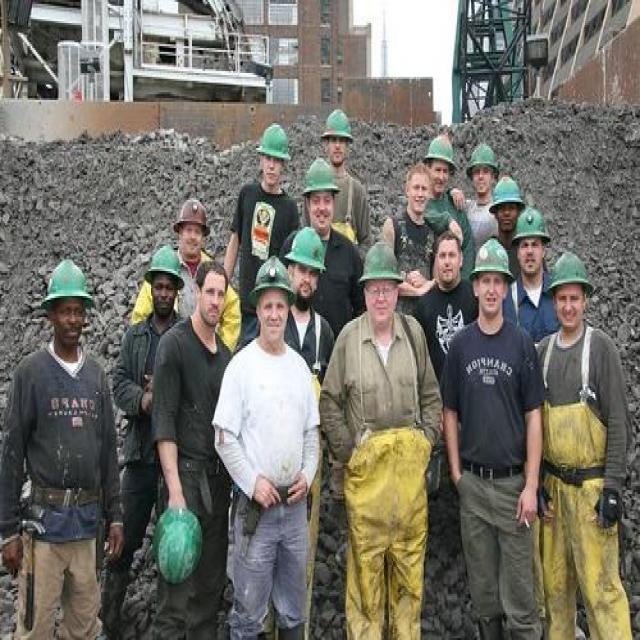Safety-Helmet: (152, 502, 206, 586), (40, 254, 94, 308), (357, 238, 403, 286), (286, 225, 330, 273), (548, 248, 592, 292), (470, 236, 512, 279), (251, 257, 293, 298), (143, 242, 184, 283), (254, 119, 290, 162), (301, 158, 339, 198), (512, 206, 552, 242), (172, 194, 208, 231), (489, 173, 526, 209), (466, 138, 502, 173), (424, 133, 456, 167), (322, 106, 354, 140)
